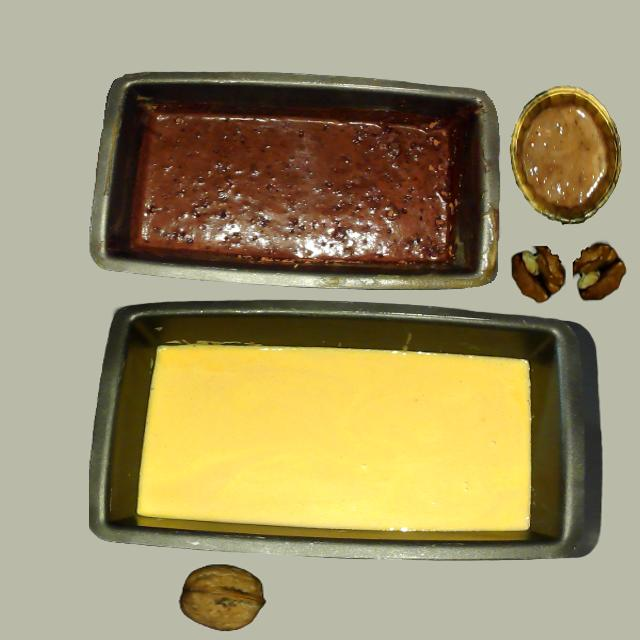Walnut: (179, 565, 263, 632)
